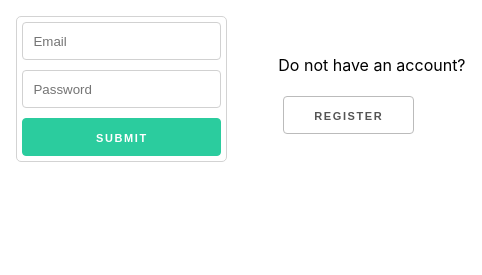
when user not registered/logged in › users sees login form first and can switch to registration form and back to login
Expected: the text "Do not have an account?" is shown, [278,55,466,75]
Expected: the field with placeholder "Email" is shown, [22,22,221,60]
Click the button "Register": (349,115) [283,96,414,134]
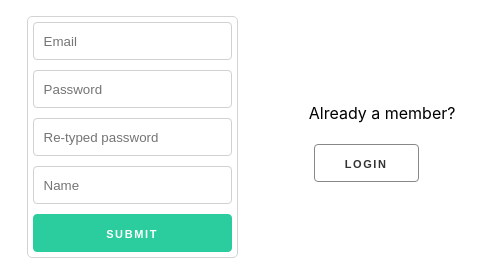
Expected: the field with placeholder "Email" is shown, [33,22,232,60]
Now the password field with placeholder "Re-typed password" is shown, box [33,118,232,156]
Now the field with placeholder "Name" is shown, box [33,166,232,204]
Click the button "Login": (366,163) [314,144,418,182]
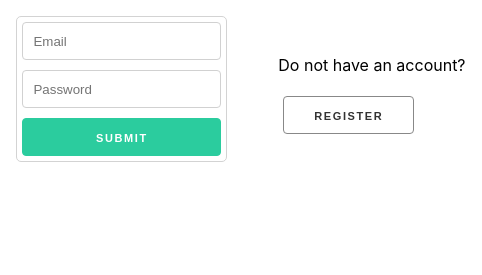
Expected: the field with placeholder "Email" is shown, [22,22,221,60]
Now the password field "Name" is gone
